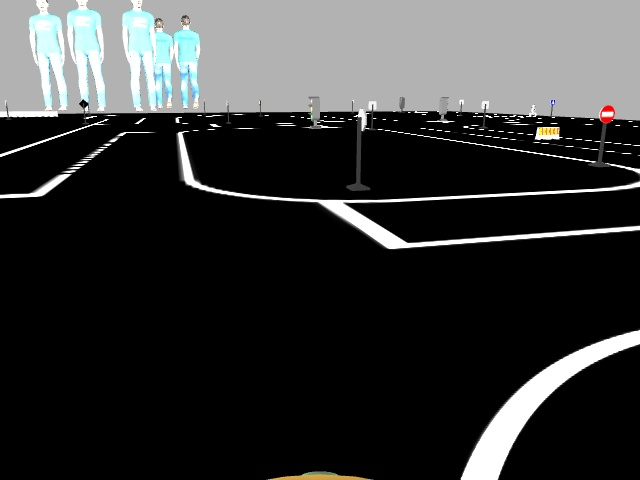NoEntry: (599, 103, 615, 123)
